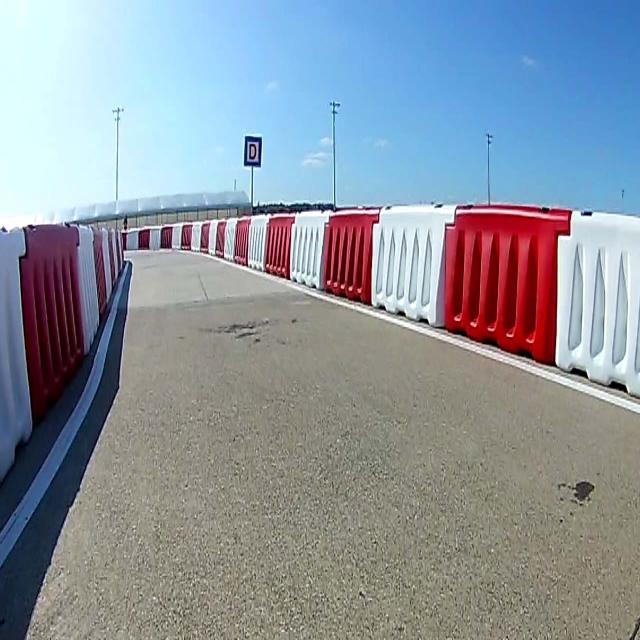durak: (244, 135, 262, 168)
